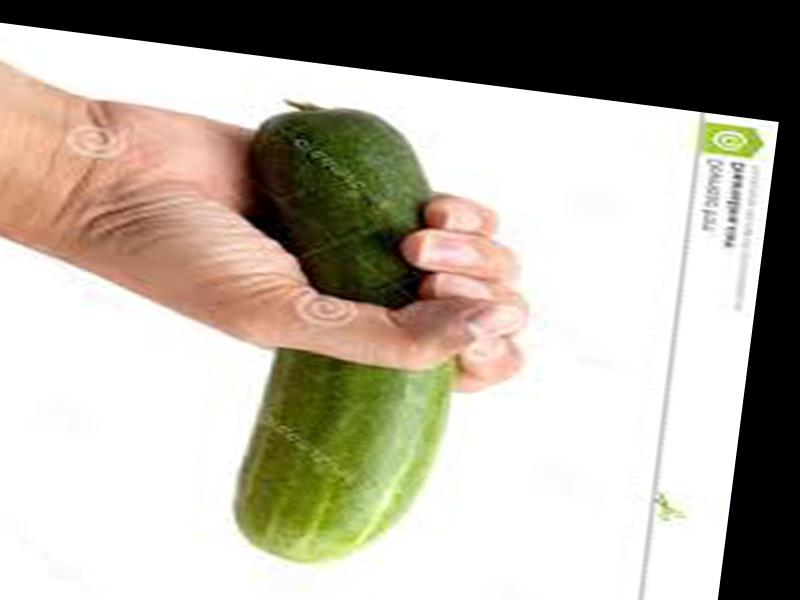Cucumber: (202, 101, 489, 580)
